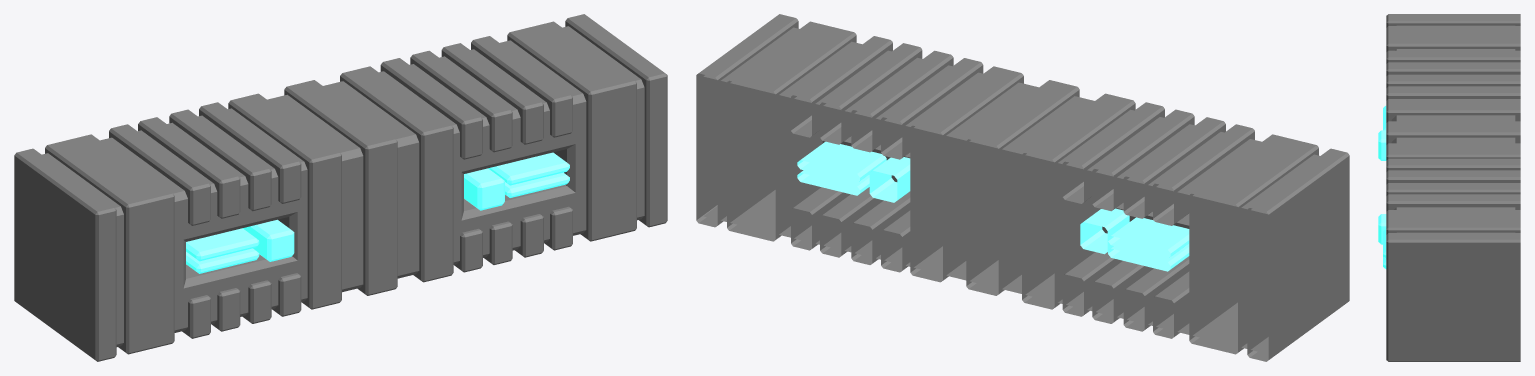
The model's file is 4UnitBlock.fbx.
The picture shows the model from 3 angles, left to right: view 1: azimuth 30°, elevation 25°; view 2: azimuth 150°, elevation 25°; view 3: azimuth 270°, elevation 25°; orthographic projection. The views are drawn at different scales.
Visible parts, largest first — view 1: polySurface50; view 2: polySurface50; view 3: polySurface50.
Boxes of the visible parts, bbox=[...] form: polySurface50: bbox=[14, 14, 667, 361]; polySurface50: bbox=[696, 14, 1349, 361]; polySurface50: bbox=[1378, 14, 1520, 361].
Size of the model in its own units: 399 by 101 by 105.
